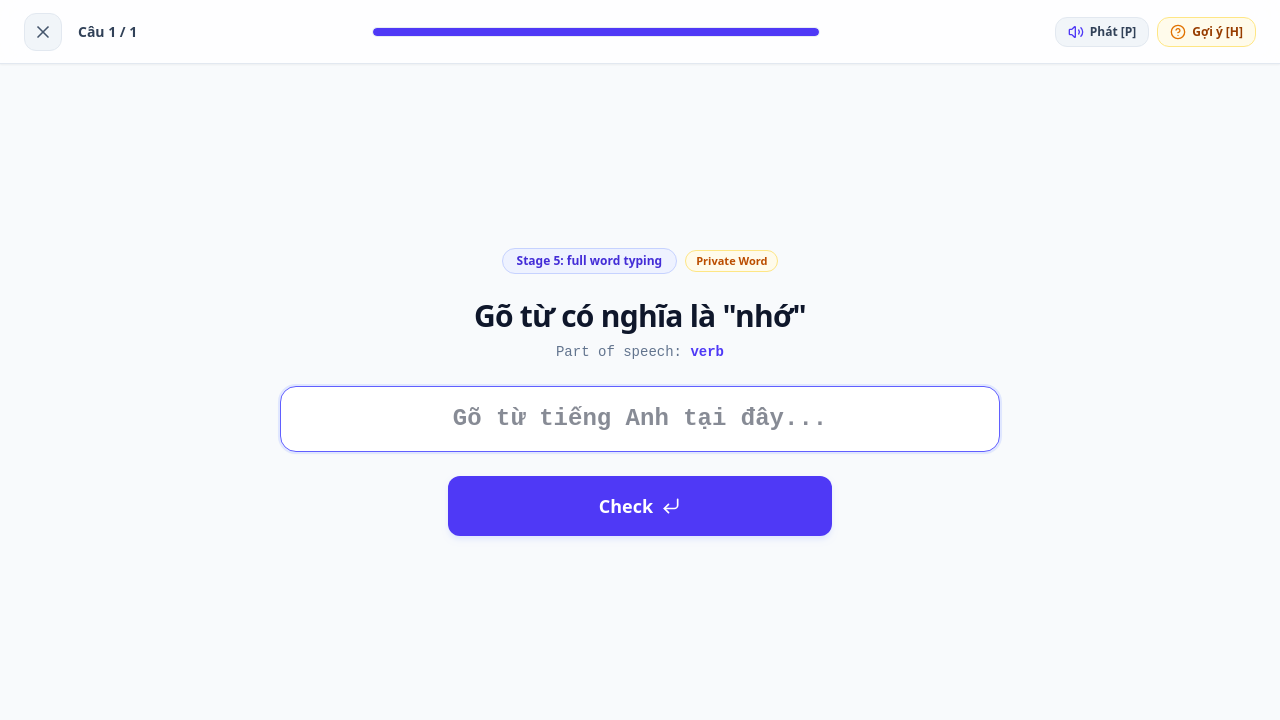
Test: LearningSessionView session completion › shows the two Git-style comparison rows after an incorrect typed answer
In the field with placeholder "Gõ từ tiếng Anh tại đây...": [640, 419] box 280,386 -> 1000,452, type "remmber"
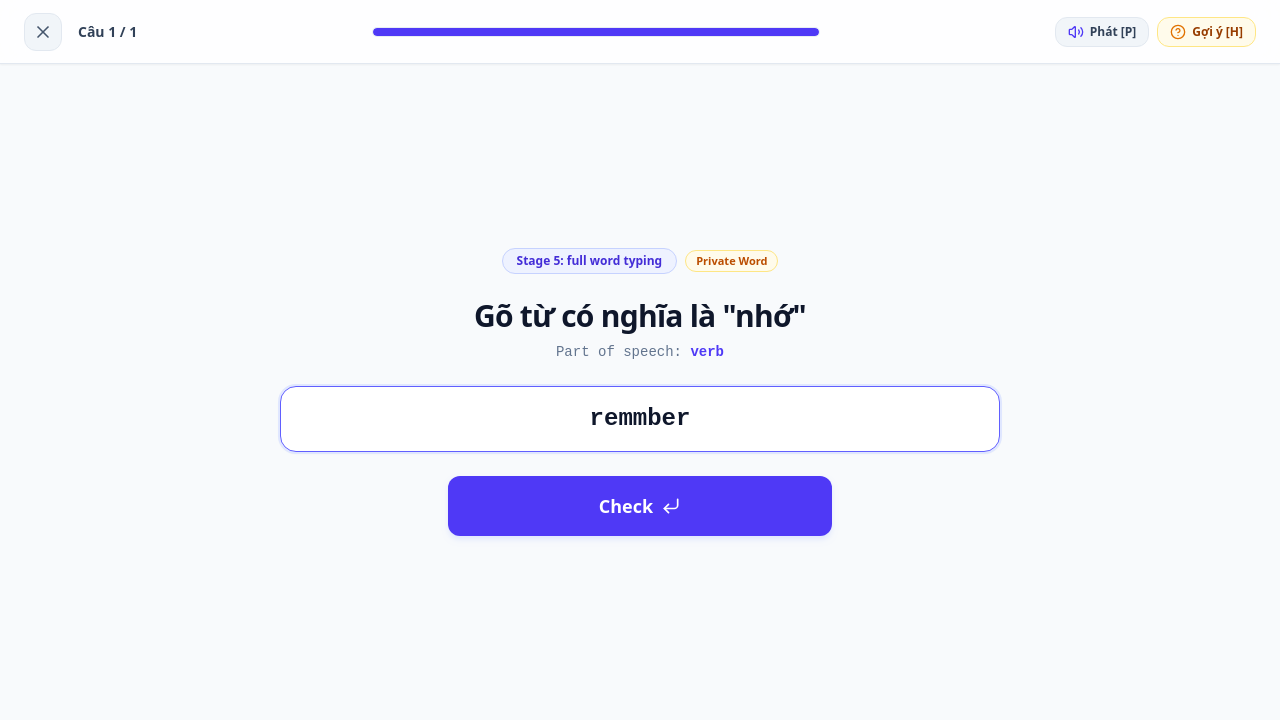
Click the button "Check": [640, 506] box 448,476 -> 832,536
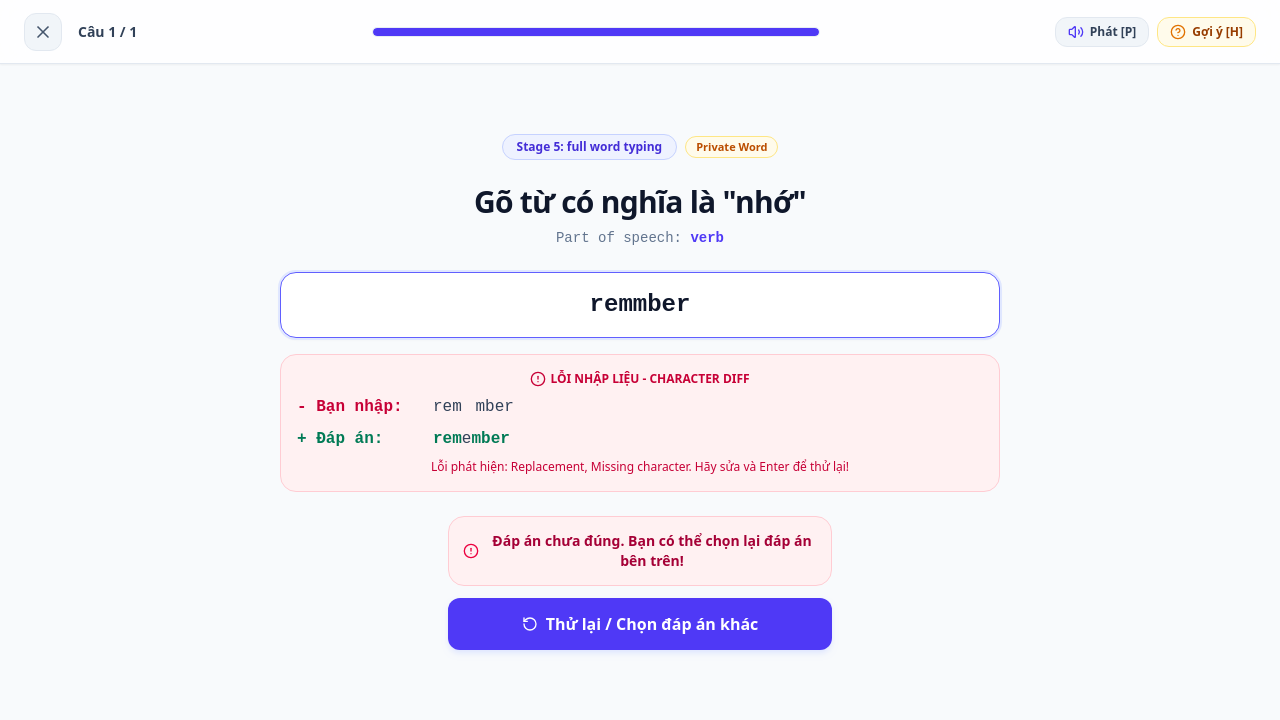
Check: the text "- Bạn nhập:" is shown, box 297,398 -> 403,416
Check: the text "+ Đáp án:" is shown, box 297,430 -> 383,448
